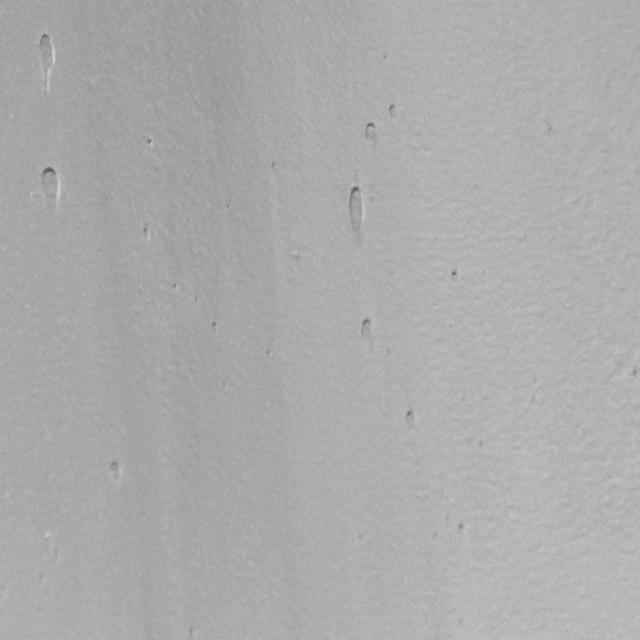pin holes: (28, 23, 61, 96), (34, 164, 66, 216), (342, 183, 372, 236), (106, 456, 127, 485), (356, 314, 376, 344), (402, 406, 422, 431), (360, 119, 380, 144), (208, 315, 225, 337), (387, 103, 404, 123), (454, 519, 469, 538), (448, 267, 463, 285), (139, 225, 153, 243), (143, 134, 157, 150), (629, 363, 639, 382), (172, 280, 180, 290), (266, 348, 273, 359)
